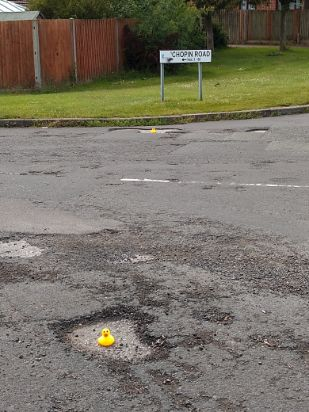pothole: (49, 301, 176, 366), (0, 230, 48, 264)
